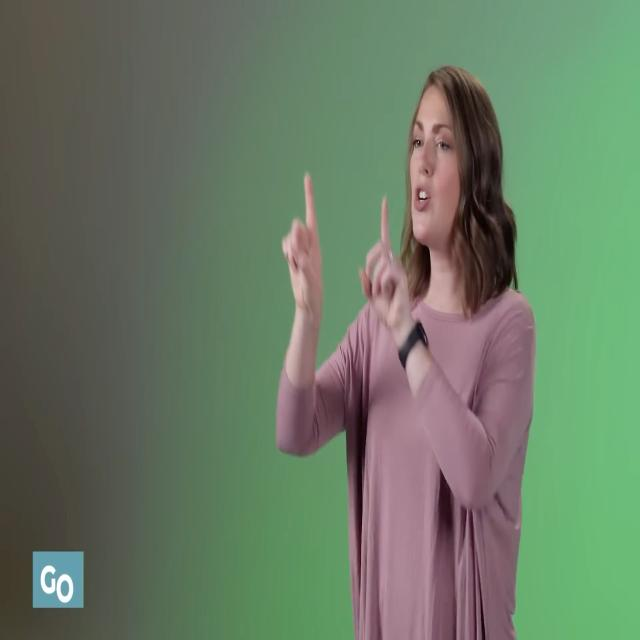go: (248, 168, 436, 344)
